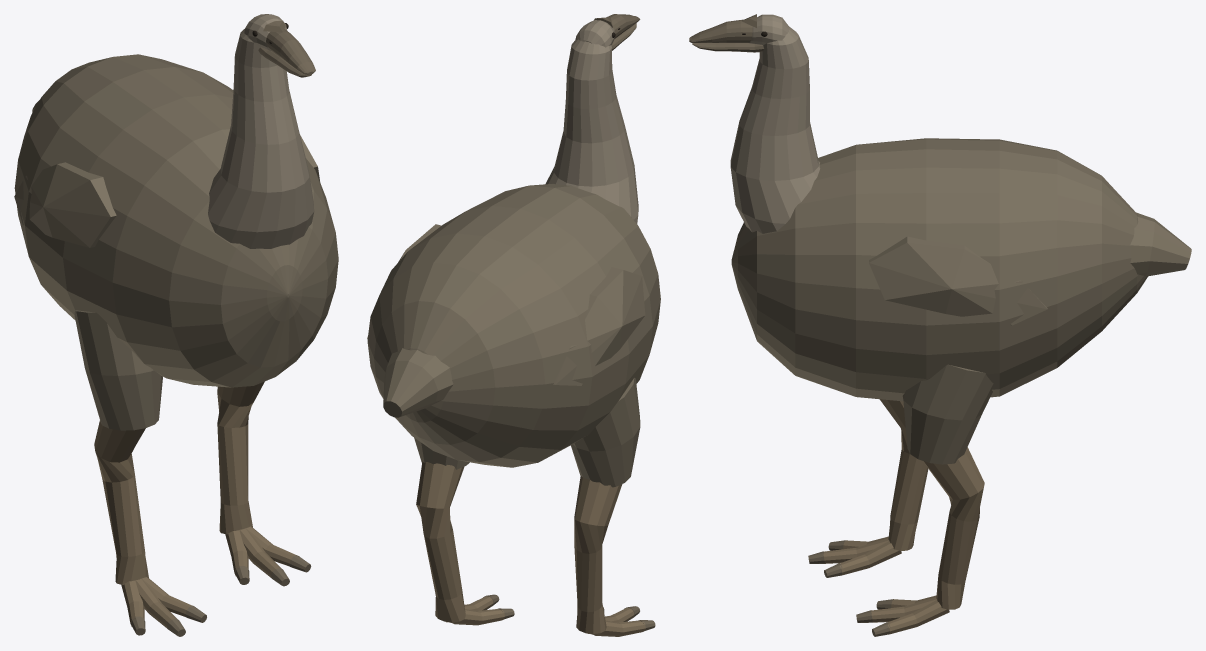
3 renders of one model, left to right at view 1: azimuth 30°, elevation 25°; view 2: azimuth 150°, elevation 25°; view 3: azimuth 270°, elevation 25°, orthographic. The views are drawn at different scales.
Visible parts, largest first — view 1: body-contoured-feather-mantle, neck-thick-s-curve, thigh-feathered-left, wing-reduced-folded-left, leg-scaled-left, leg-scaled-right, bill-upper-broad-rostrum, toe-right-2, toe-left-2, head-posterior-cranium, toe-left-1, toe-right-1 (+2 smaller); view 2: body-contoured-feather-mantle, neck-thick-s-curve, leg-scaled-right, leg-scaled-left, wing-reduced-folded-left, thigh-feathered-left, tail-short-feather-tip, head-posterior-cranium, toe-left-1, toe-right-1, thigh-feathered-right, bill-upper-broad-rostrum; view 3: body-contoured-feather-mantle, neck-thick-s-curve, wing-reduced-folded-right, thigh-feathered-right, leg-scaled-right, leg-scaled-left, tail-short-feather-tip, bill-upper-broad-rostrum, toe-right-3, toe-left-3, head-posterior-cranium.
Part boxes in pixels (bbox=[...]): body-contoured-feather-mantle: bbox=[14, 54, 338, 387]; neck-thick-s-curve: bbox=[208, 29, 314, 248]; thigh-feathered-left: bbox=[74, 310, 162, 430]; wing-reduced-folded-left: bbox=[14, 162, 116, 247]; leg-scaled-left: bbox=[94, 421, 148, 584]; leg-scaled-right: bbox=[217, 381, 264, 534]; bill-upper-broad-rostrum: bbox=[266, 29, 315, 74]; toe-right-2: bbox=[239, 528, 281, 577]; toe-left-2: bbox=[135, 578, 176, 628]; head-posterior-cranium: bbox=[244, 14, 287, 50]; toe-left-1: bbox=[121, 580, 144, 626]; toe-right-1: bbox=[225, 530, 248, 575]; body-contoured-feather-mantle: bbox=[367, 184, 660, 467]; neck-thick-s-curve: bbox=[545, 39, 638, 223]; leg-scaled-right: bbox=[416, 461, 465, 622]; leg-scaled-left: bbox=[574, 476, 622, 633]; wing-reduced-folded-left: bbox=[553, 267, 645, 385]; thigh-feathered-left: bbox=[571, 377, 640, 487]; tail-short-feather-tip: bbox=[383, 348, 453, 417]; head-posterior-cranium: bbox=[575, 20, 614, 47]; toe-left-1: bbox=[593, 620, 645, 636]; toe-right-1: bbox=[452, 609, 504, 625]; thigh-feathered-right: bbox=[414, 438, 469, 469]; bill-upper-broad-rostrum: bbox=[607, 14, 640, 38]; body-contoured-feather-mantle: bbox=[731, 138, 1147, 401]; neck-thick-s-curve: bbox=[730, 26, 820, 233]; wing-reduced-folded-right: bbox=[869, 236, 1047, 325]; thigh-feathered-right: bbox=[902, 364, 993, 464]; leg-scaled-right: bbox=[923, 447, 984, 609]; leg-scaled-left: bbox=[880, 399, 928, 550]; tail-short-feather-tip: bbox=[1130, 212, 1191, 276]; bill-upper-broad-rostrum: bbox=[689, 19, 752, 42]; toe-right-3: bbox=[887, 600, 949, 634]; toe-left-3: bbox=[839, 541, 901, 575]; head-posterior-cranium: bbox=[748, 14, 788, 45].
Size of the model in its own units: 0.85 by 1.99 by 1.57.
